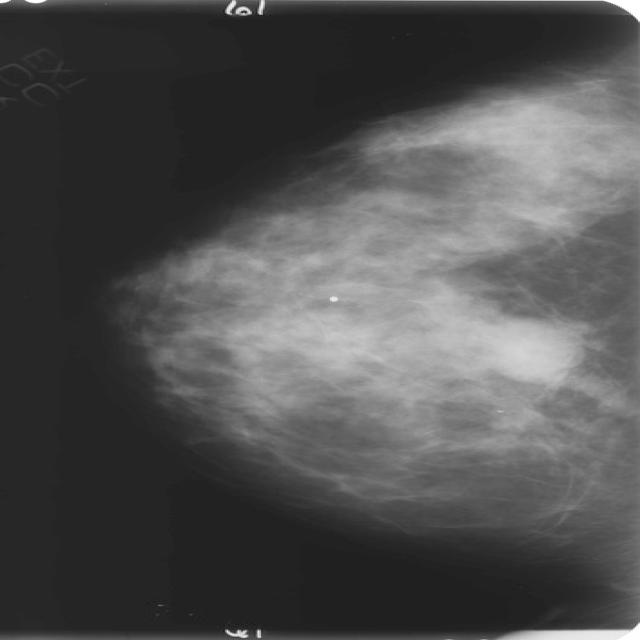tumour: (468, 318, 589, 382)
